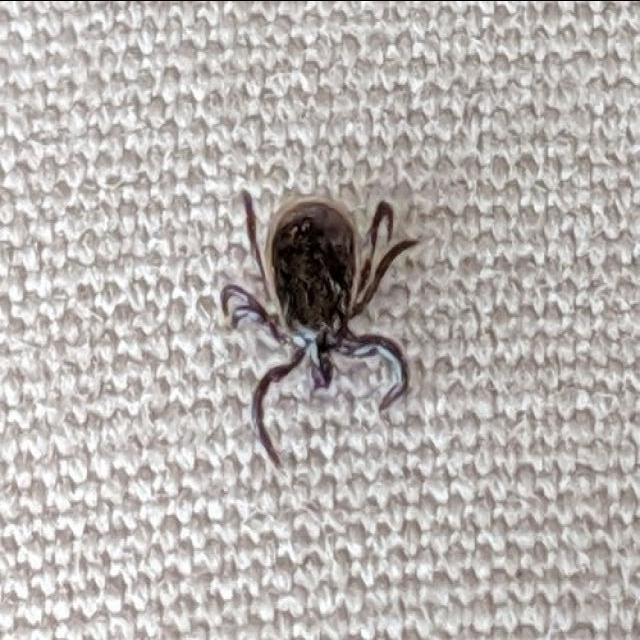Ixodes Ricinus-M: (223, 192, 422, 460)
